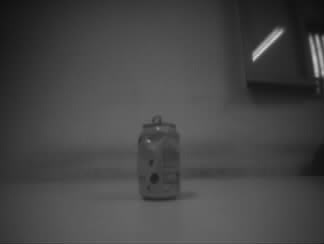Tin can: (136, 114, 181, 200)
